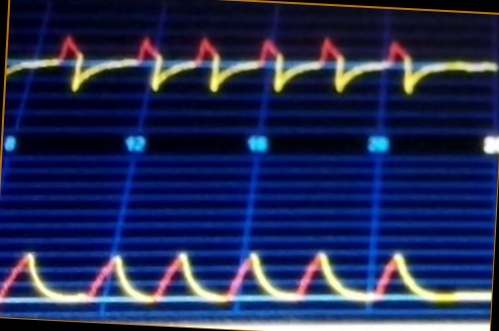Normal Flow: (8, 21, 497, 111)
Normal Volume: (1, 216, 490, 314)
